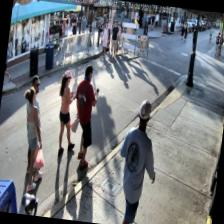person: (110, 96, 164, 224)
